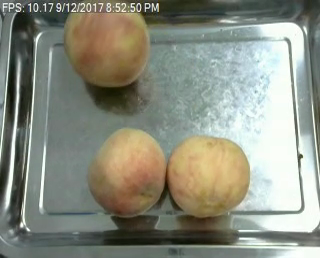Peach: (63, 0, 149, 88), (87, 127, 165, 217), (166, 134, 250, 217)
